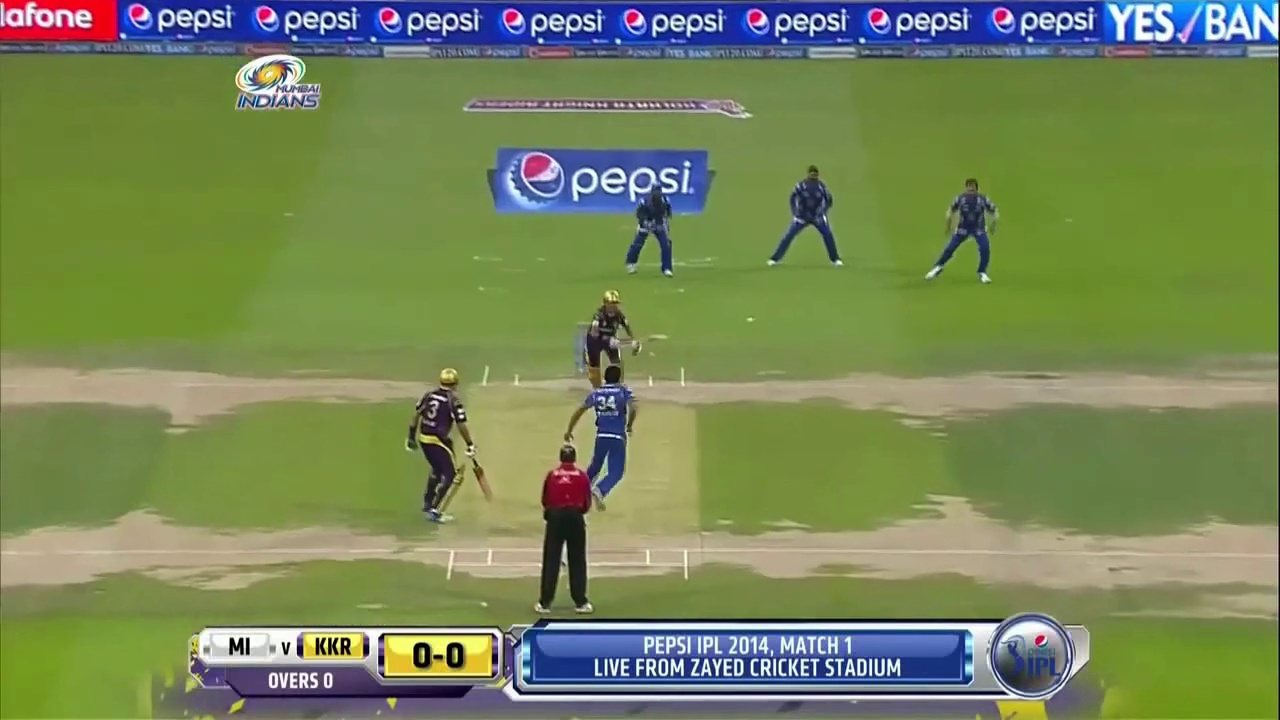bat: (471, 457, 496, 503)
